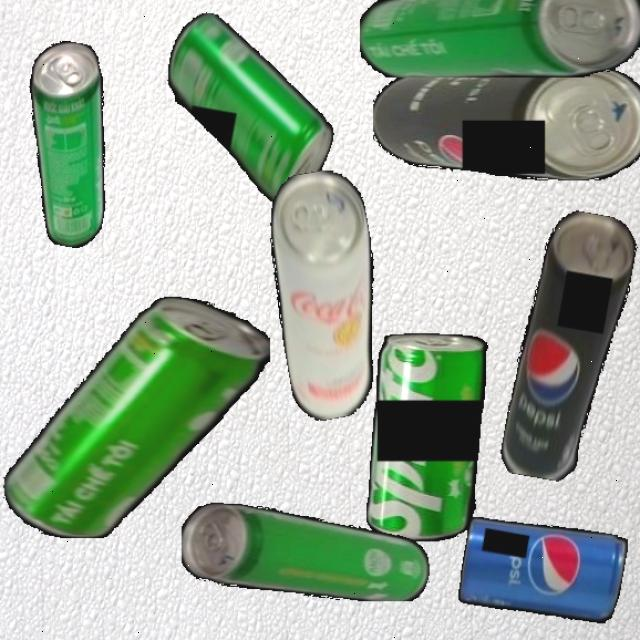debris: (3, 296, 270, 538), (149, 9, 350, 209), (498, 206, 640, 487), (256, 165, 400, 424), (366, 332, 522, 542), (372, 63, 640, 181), (3, 36, 132, 252), (182, 502, 430, 601), (359, 0, 640, 78), (455, 510, 629, 629)
